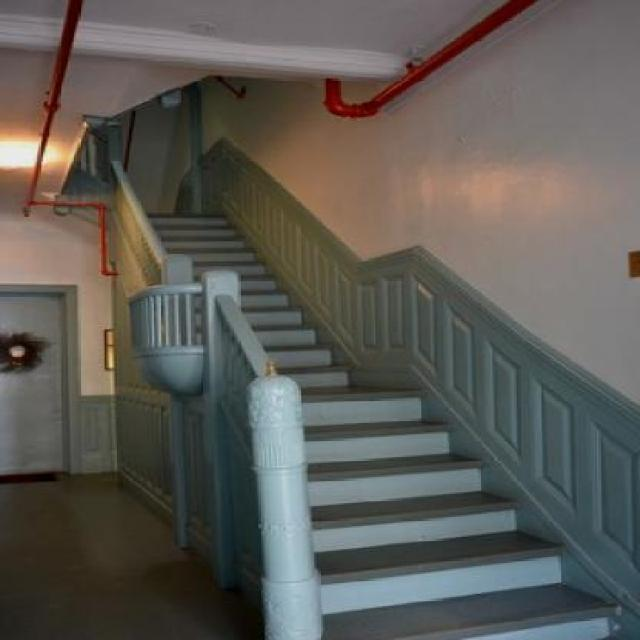stair: (39, 144, 638, 638)
